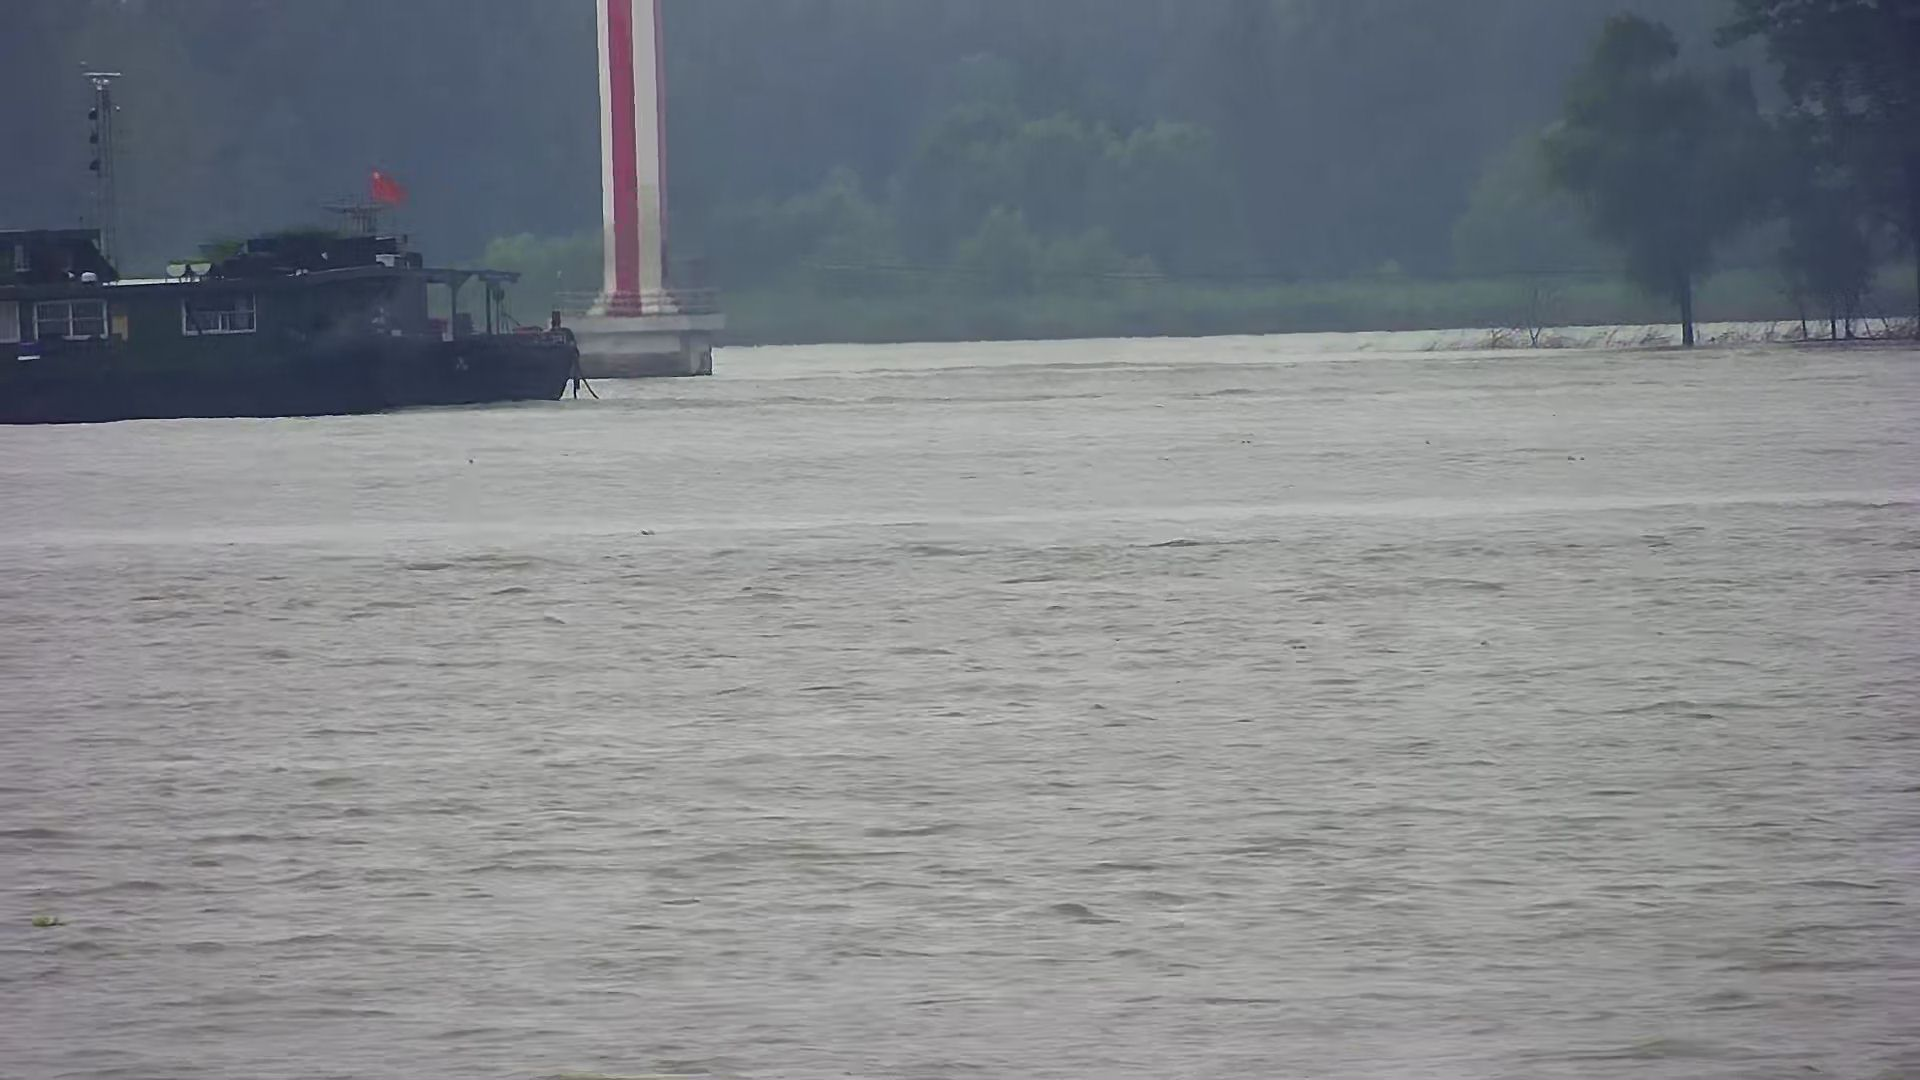platform: (560, 4, 721, 375)
ship: (1, 167, 574, 425)
tree: (1534, 15, 1762, 349), (1743, 3, 1920, 338)
